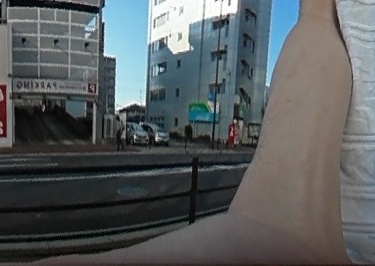person: (113, 113, 125, 150)
